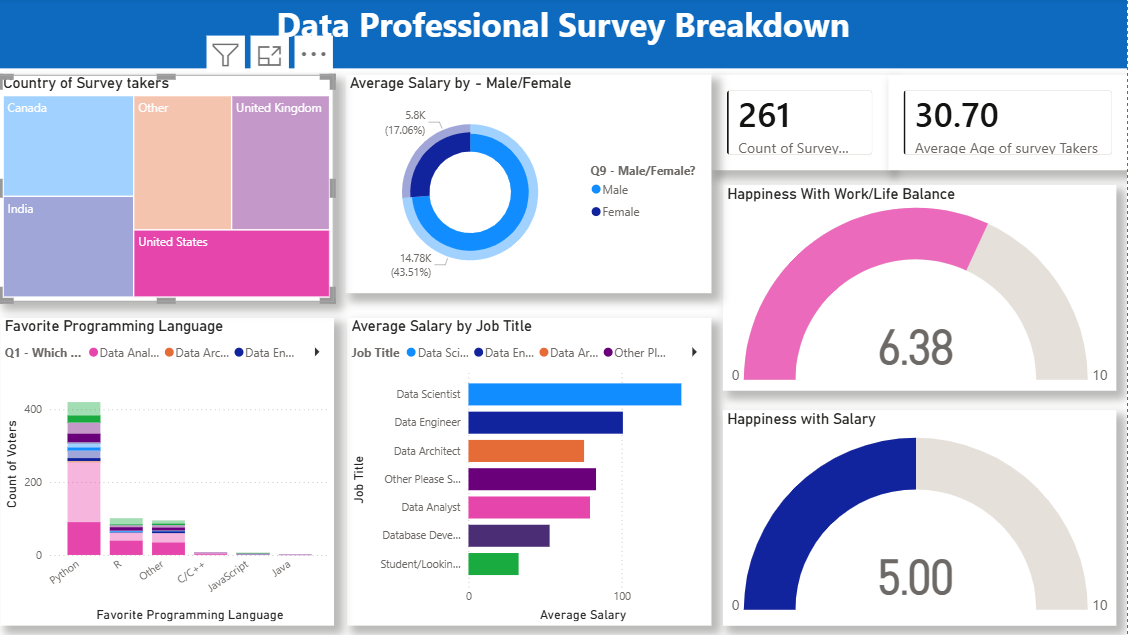

The dashboard page shown, as its layout file describes it:
{"tool":"powerbi","page":{"name":"Page 1","canvas":[1280,720],"ordinal":0},"visuals":[{"type":"textbox","box":[10.9,0,1270,80.2],"z":0},{"type":"cardVisual","fields":{"Data":["Count(Data Professional Survey (2).Unique ID)"]},"box":[812.6,87.5,198.6,107.5],"z":1000},{"type":"cardVisual","fields":{"Data":["Avg(Data Professional Survey (2).Q10 - Current Age)"]},"box":[1011.2,87.5,269.7,107.5],"z":2000},{"type":"barChart","title":"Average Salary by Job Title","fields":{"Category":["Data Professional Survey (2).Q1 - Which Title Best Fits your Current Role?.1"],"Y":["Avg(Data Professional Survey (2).Average Salary)"],"Series":["Data Professional Survey (2).Q1 - Which Title Best Fits your Current Role?.1"]},"box":[402.7,360.8,410,346.2],"z":3000},{"type":"columnChart","title":"Favorite Programming Language","fields":{"Category":["Data Professional Survey (2).Q5 - Favorite Programming Language.1"],"Y":["CountNonNull(Data Professional Survey (2).Unique ID)"],"Series":["Data Professional Survey (2).Q1 - Which Title Best Fits your Current Role?.1"]},"box":[12.8,360.8,375.3,346.2],"z":4000},{"type":"treemap","title":"Country of Survey takers","fields":{"Group":["Data Professional Survey (2).Q11 - Which Country do you live in?.1"],"Values":["Count(Data Professional Survey (2).Q11 - Which Country do you live in?.1)"]},"box":[10.9,87.5,377.2,255.1],"z":4001},{"type":"gauge","title":"Happiness With Work/Life Balance ","fields":{"Y":["Avg(Data Professional Survey (2).Q6 - How Happy are you in your Current Position with the following? (Work/Life Balance)"],"MinValue":["Min(Data Professional Survey (2).Q6 - How Happy are you in your Current Position with the following? (Work/Life Balance)"],"MaxValue":["Max(Data Professional Survey (2).Q6 - How Happy are you in your Current Position with the following? (Work/Life Balance)"]},"box":[825.4,211.4,442.8,231.4],"z":4002},{"type":"gauge","title":"Happiness with Salary","fields":{"Y":["Avg(Data Professional Survey (2).Q6 - How Happy are you in your Current Position with the following? (Salary))"],"MinValue":["Min(Data Professional Survey (2).Q6 - How Happy are you in your Current Position with the following? (Salary))"],"MaxValue":["Max(Data Professional Survey (2).Q6 - How Happy are you in your Current Position with the following? (Salary))1"]},"box":[825.4,464.6,442.8,242.3],"z":4003},{"type":"donutChart","title":"Average Salary by - Male/Female","fields":{"Category":["Data Professional Survey (2).Q9 - Male/Female?"],"Y":["Sum(Data Professional Survey (2).Average Salary)"]},"box":[400.9,87.5,411.8,246],"z":4004}]}

Visuals, with their boxes in screenshot pixels (x1, y1, x2, y2):
textbox: 0 0 1127 61
cardVisual - Count(Data Professional Survey (2).Unique ID): 712 67 891 164
cardVisual - Avg(Data Professional Survey (2).Q10 - Current Age): 891 67 1127 164
"Average Salary by Job Title" barChart: 342 313 712 625
"Favorite Programming Language" columnChart: 0 313 329 625
"Country of Survey takers" treemap: 0 67 329 297
"Happiness With Work/Life Balance " gauge: 723 179 1122 387
"Happiness with Salary" gauge: 723 407 1122 625
"Average Salary by - Male/Female" donutChart: 341 67 712 289
